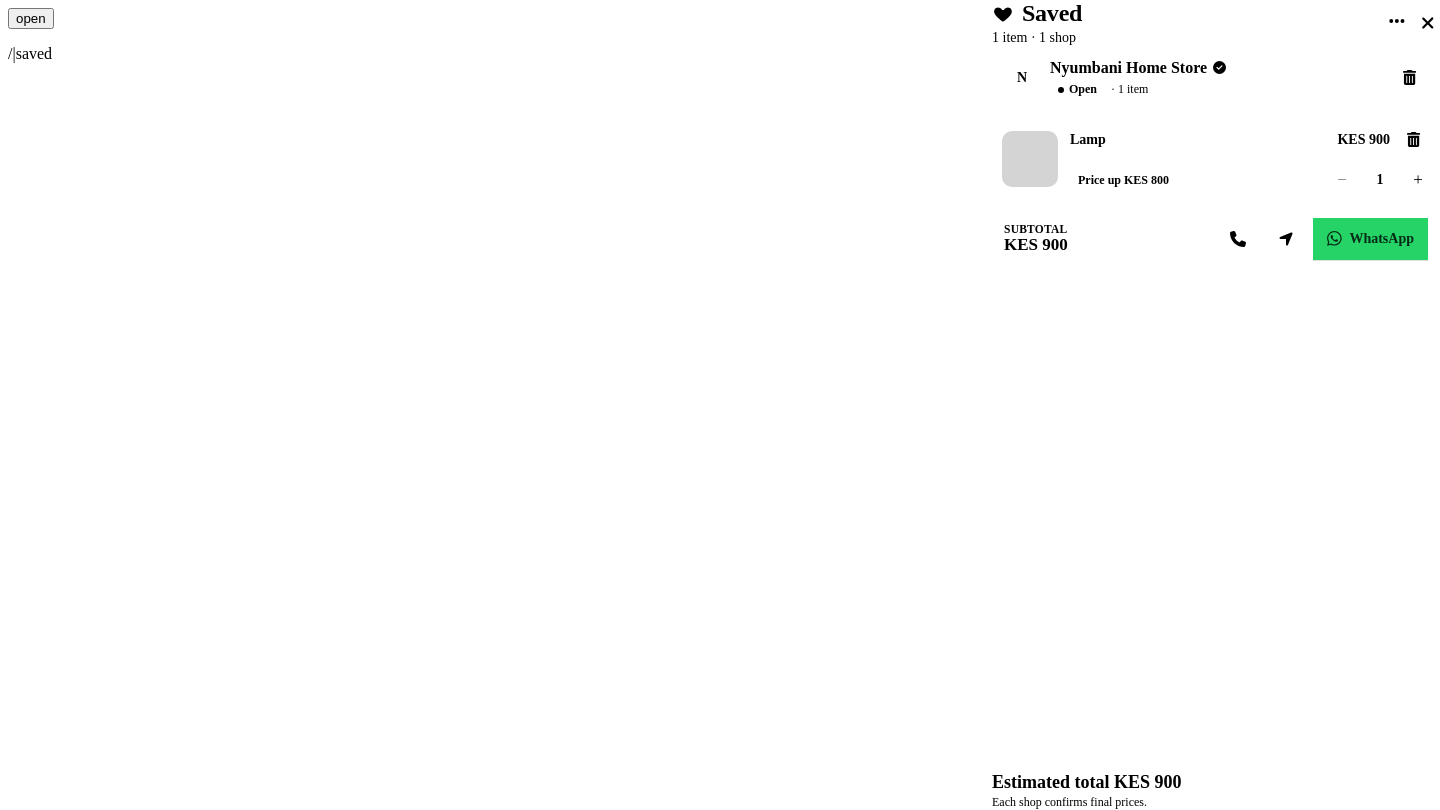
Scenario: SavedDrawer › opening an item replaces the drawer's entry and carries the chosen option
Click the link "Lamp".
click(1088, 139)  # box [1070, 132, 1106, 146]
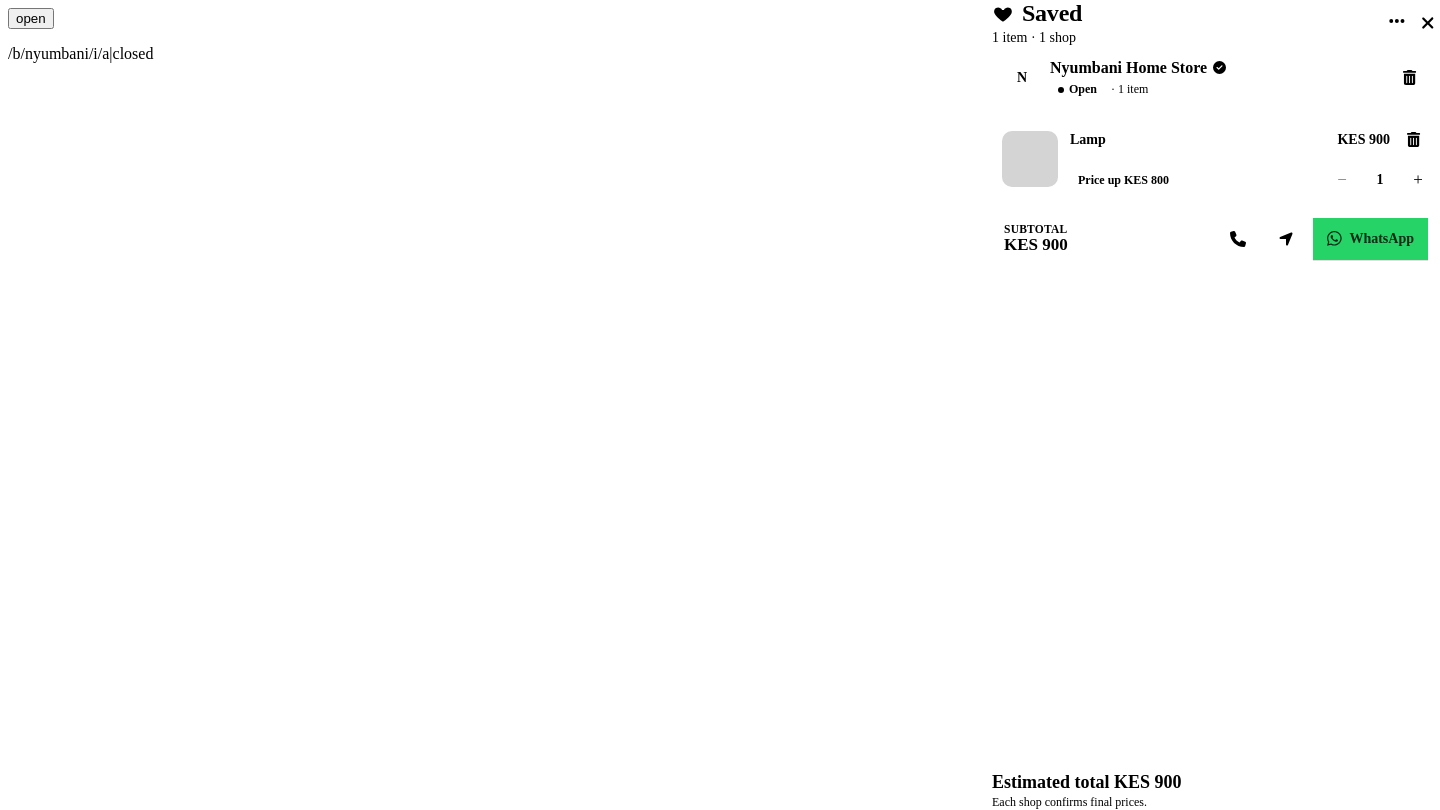
Check: the text with test id "where" reads "/b/nyumbani/i/a|closed", box [8, 45, 153, 62]
